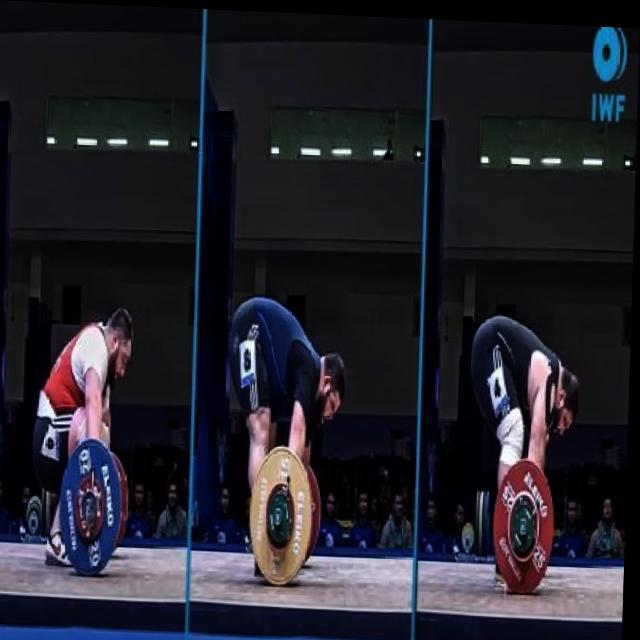barbell: (247, 436, 322, 592), (491, 451, 560, 598), (59, 435, 128, 580)
